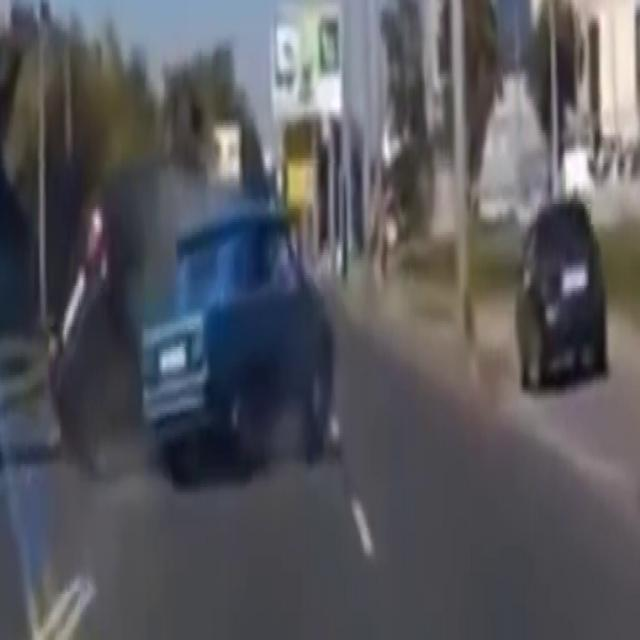accident: (47, 148, 335, 480)
